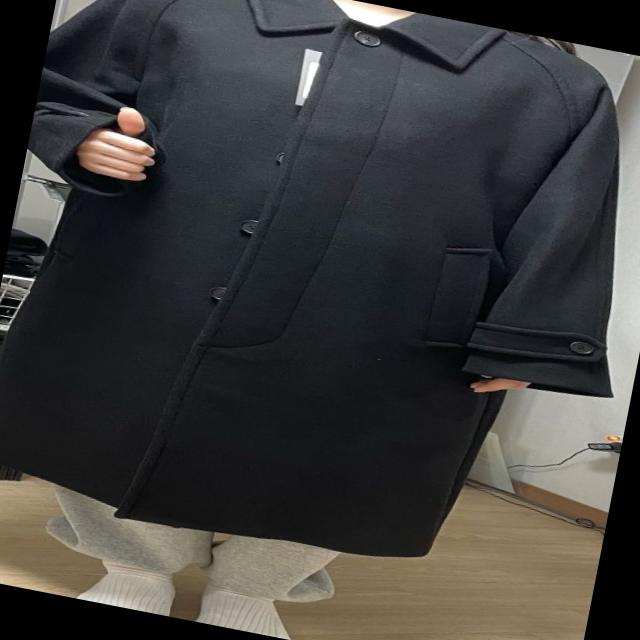coat: (0, 0, 640, 606)
trainingpants: (32, 476, 348, 614)
